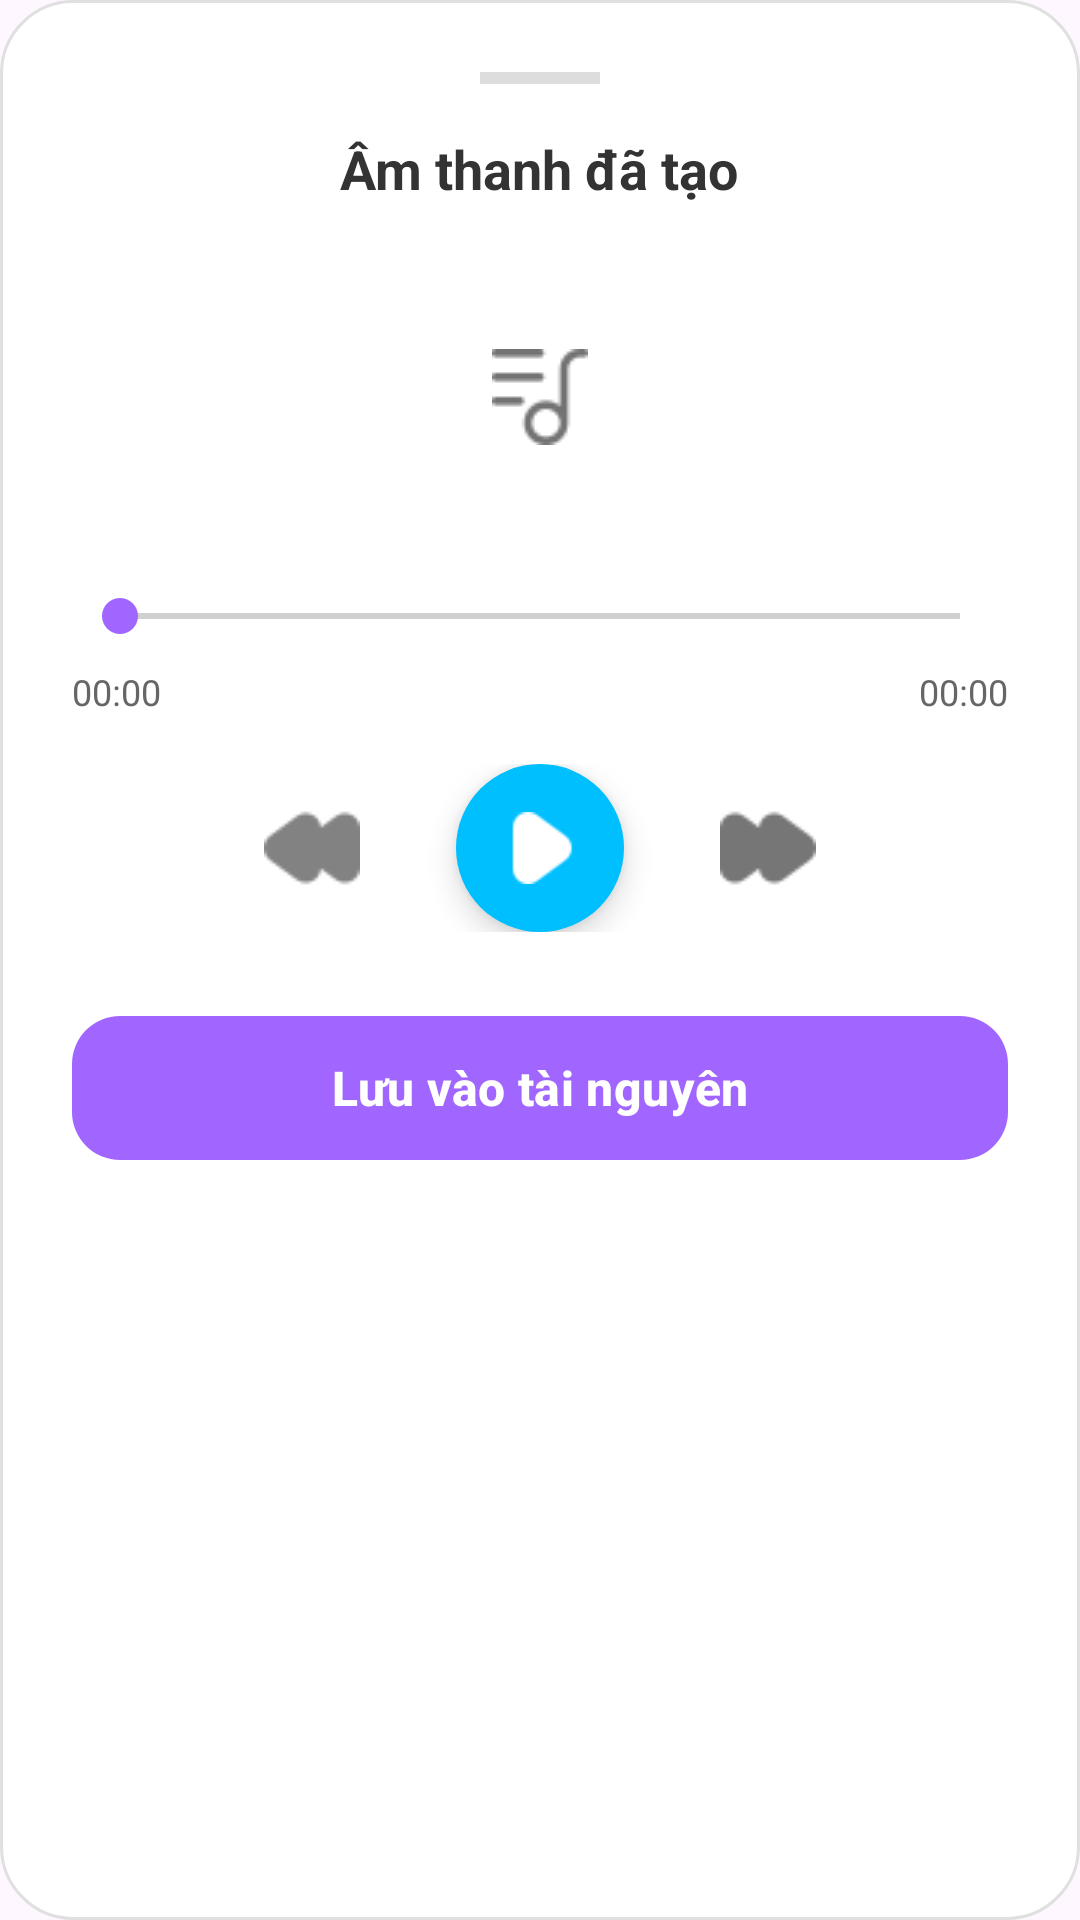

Point at icon controls on the screen. Image size 1080 × 1920, points as (x=x, y=y).
giai dieu: (x=540, y=397)
play: (x=540, y=848)
rew: (x=312, y=848)
